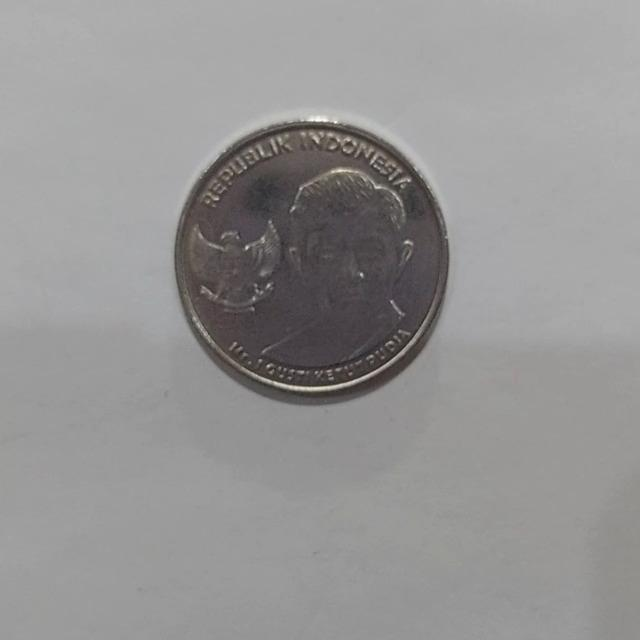Rp100: (171, 114, 451, 401)
